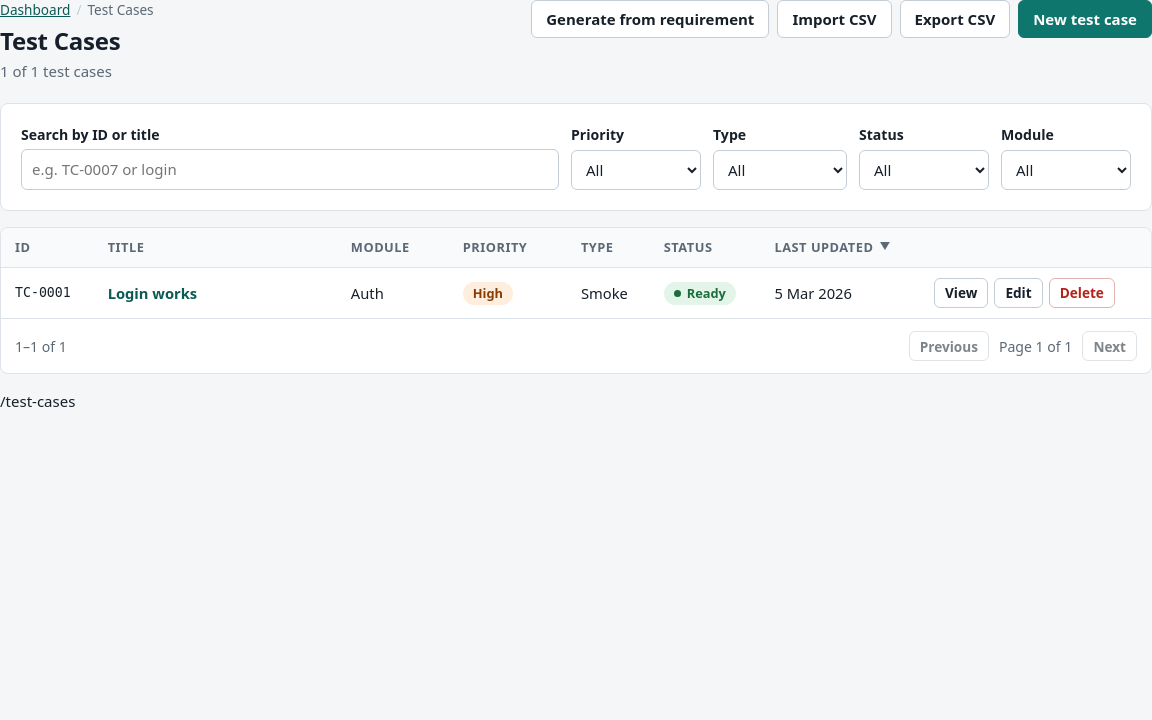
Test: TestCaseListPage › reports a failed delete without losing the row
What coordinates should you click on to do the following:
click the button with aria-label "Delete TC-0001"
I would click on:
 (1082, 293)
Its box is [1049,278,1115,308].
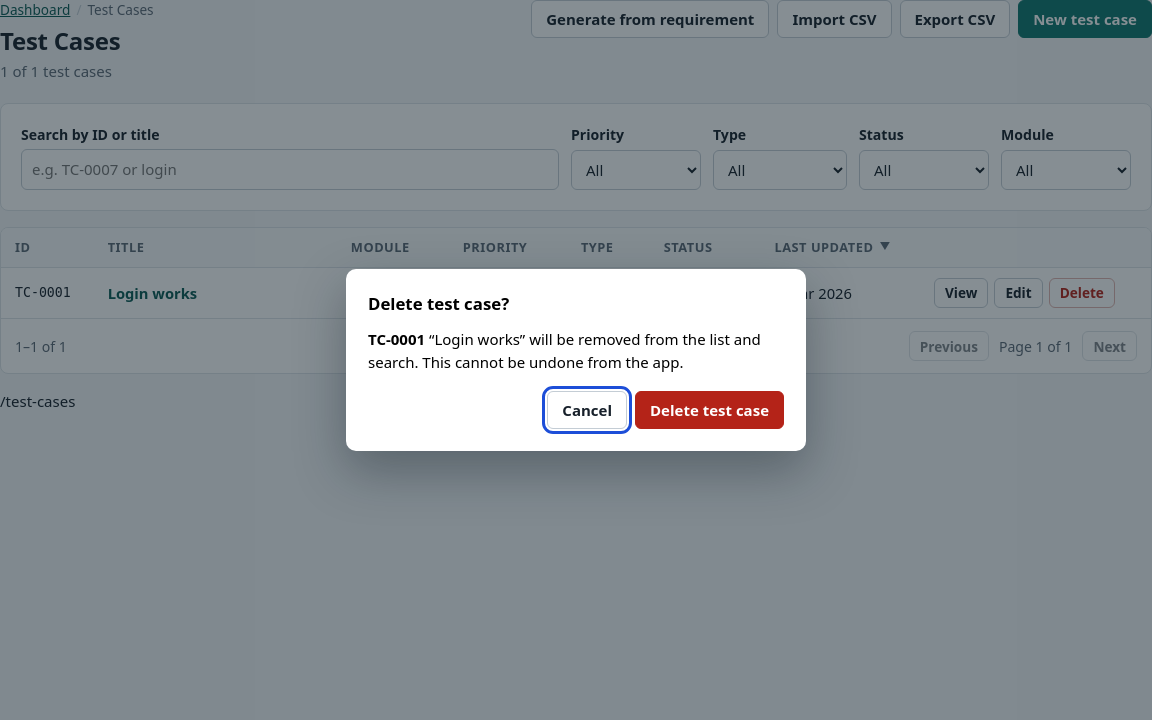
What coordinates should you click on to do the following:
click the button "Delete test case"
I would click on:
 (710, 410)
Its box is [635,391,784,429].
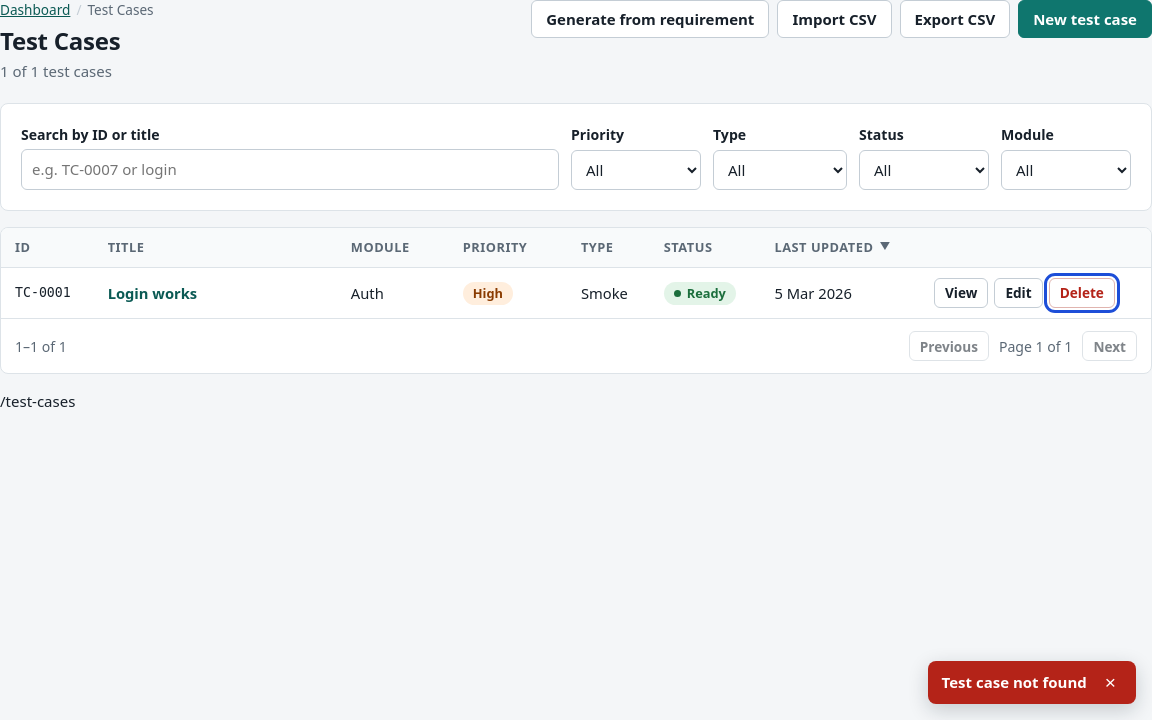
Expected: the link "Login works" is shown, [108,283,197,303]
Expected: the text "Test case not found" is shown, [942,671,1087,694]
